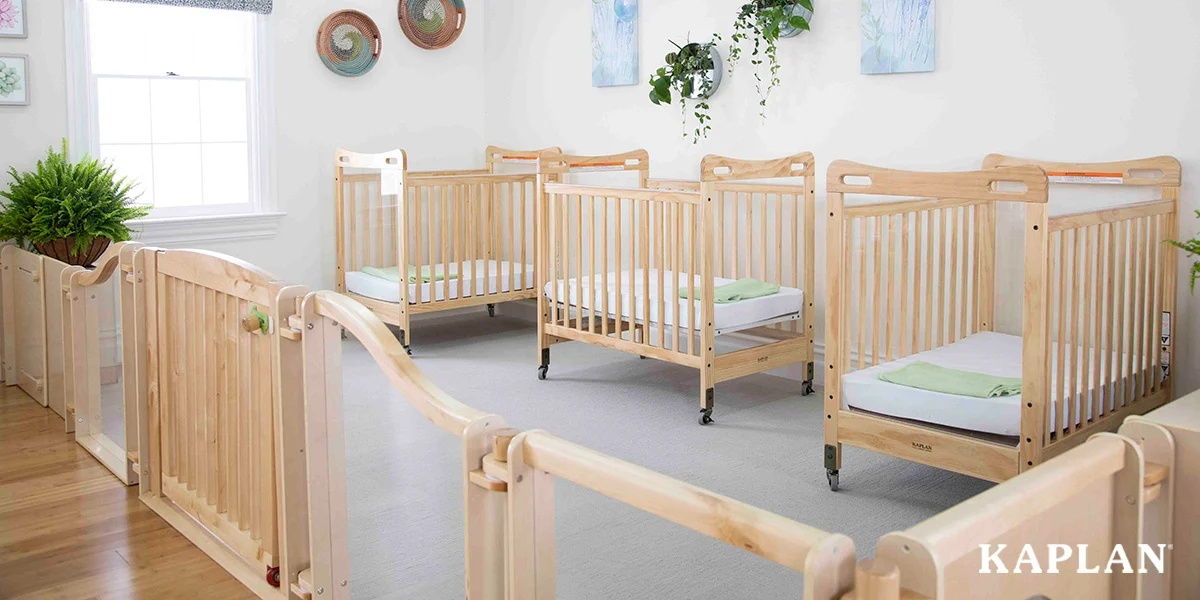crib: (824, 156, 1180, 488), (537, 151, 814, 423), (335, 147, 537, 347)
